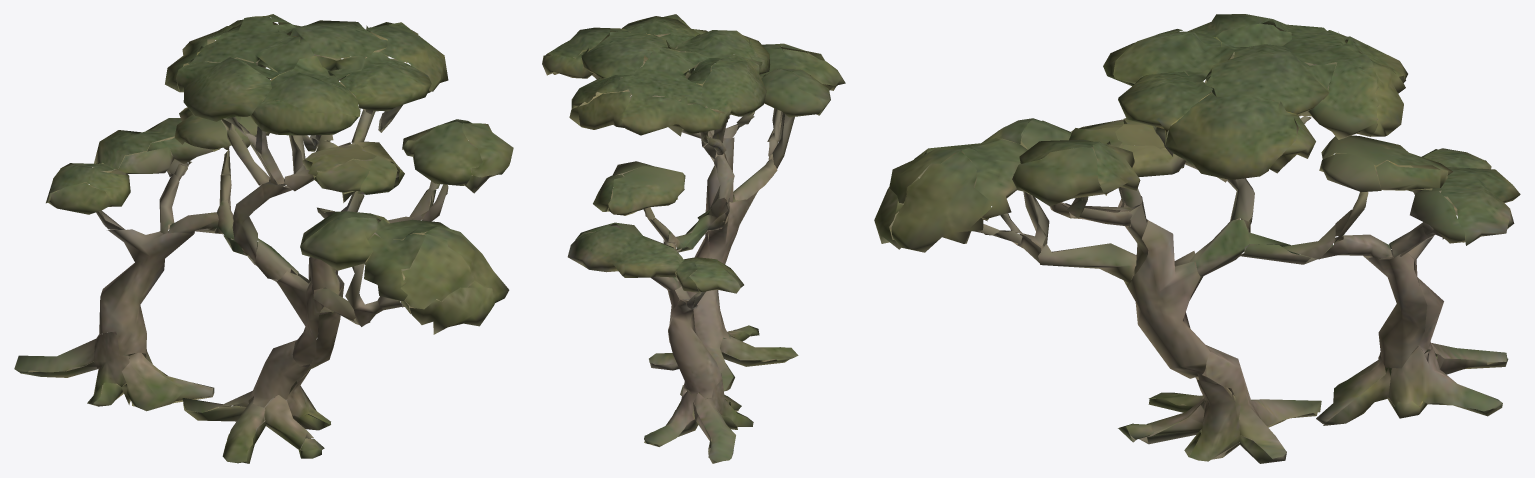
Rendered from forest_tree_branching_01_lod1.glb.
The picture shows the model from 3 angles, left to right: view 1: azimuth 30°, elevation 25°; view 2: azimuth 150°, elevation 25°; view 3: azimuth 270°, elevation 25°; orthographic projection. The views are drawn at different scales.
Parts seen in each view (by area): view 1: candidate_009_lod1; view 2: candidate_009_lod1; view 3: candidate_009_lod1.
Boxes of the visible parts, x1,y1,x2,y2 form: candidate_009_lod1: (14,14,513,463); candidate_009_lod1: (542,14,845,463); candidate_009_lod1: (874,14,1520,463).
Bounding box in the file's own units: 0.1911 × 0.2128 × 0.2983.
Materials: 1 (1 with a texture image).
